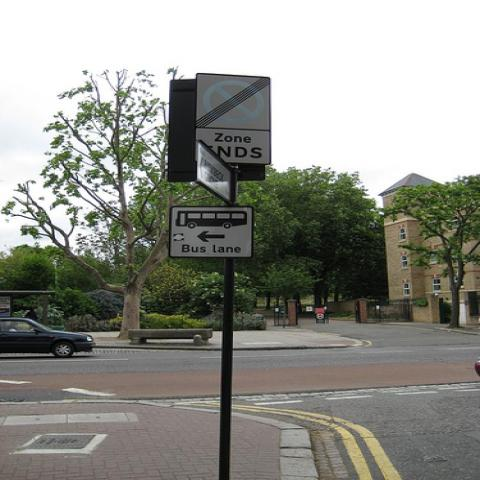car: (2, 320, 96, 360), (474, 354, 479, 379)
